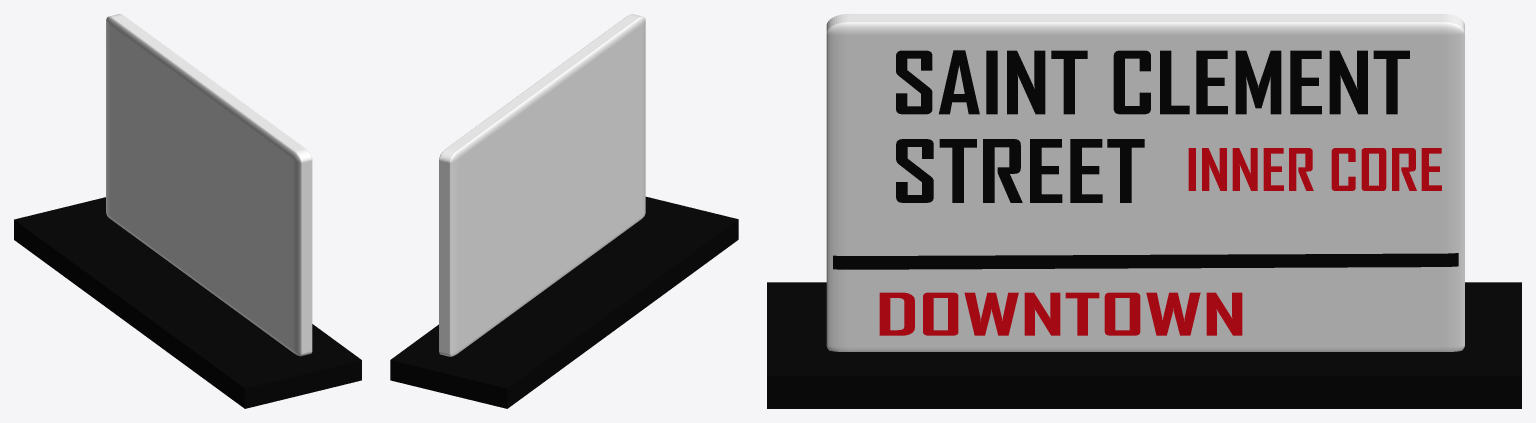
Rendered from uk_styled_street_sign_74.fbx.
The picture shows the model from 3 angles, left to right: view 1: azimuth 30°, elevation 25°; view 2: azimuth 150°, elevation 25°; view 3: azimuth 270°, elevation 25°; orthographic projection. The views are drawn at different scales.
Parts seen in each view (by area): view 1: Cube, Cube.001; view 2: Cube, Cube.001; view 3: Cube, Cube.001, Text, Text.002, Text.001, Text.003.
Part boxes in pixels (bbox=[...]): Cube: bbox=[106, 14, 312, 356]; Cube.001: bbox=[14, 197, 361, 408]; Cube: bbox=[439, 14, 645, 356]; Cube.001: bbox=[390, 196, 738, 408]; Cube: bbox=[826, 14, 1464, 351]; Cube.001: bbox=[767, 282, 1521, 408]; Text: bbox=[896, 50, 1409, 114]; Text.002: bbox=[879, 292, 1242, 335]; Text.001: bbox=[896, 139, 1144, 202]; Text.003: bbox=[1188, 148, 1441, 190].
Size of the model in its own units: 12 by 21.71 by 41.07.
